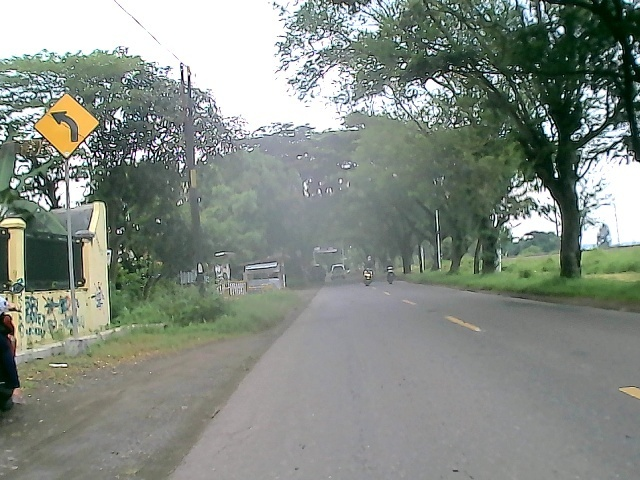Tikungan ke kiri: (34, 92, 101, 161)
